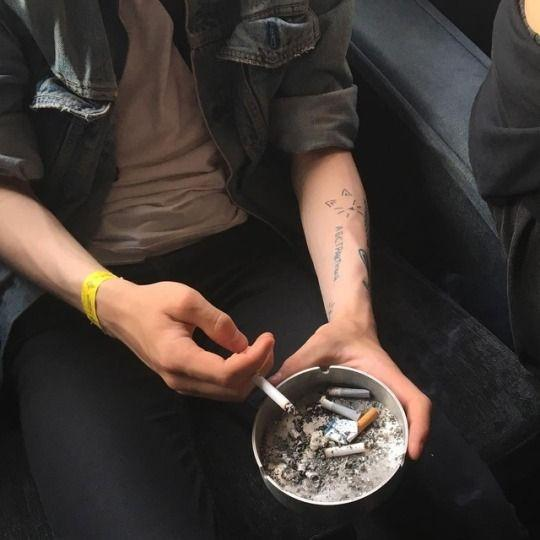cigarette: (249, 372, 295, 414)
